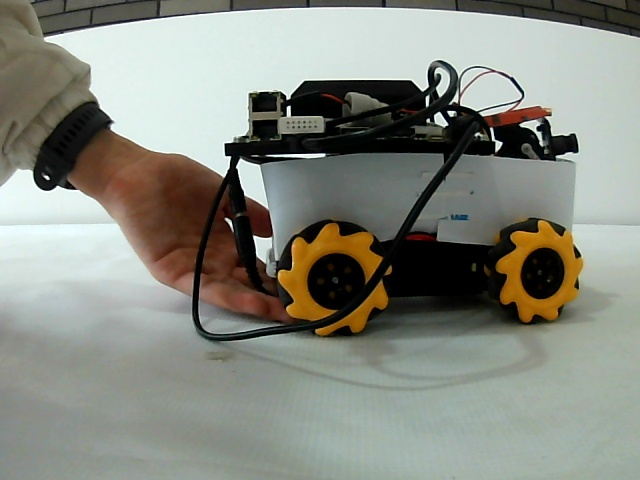car: (218, 75, 584, 323)
paper: (260, 162, 577, 230)
